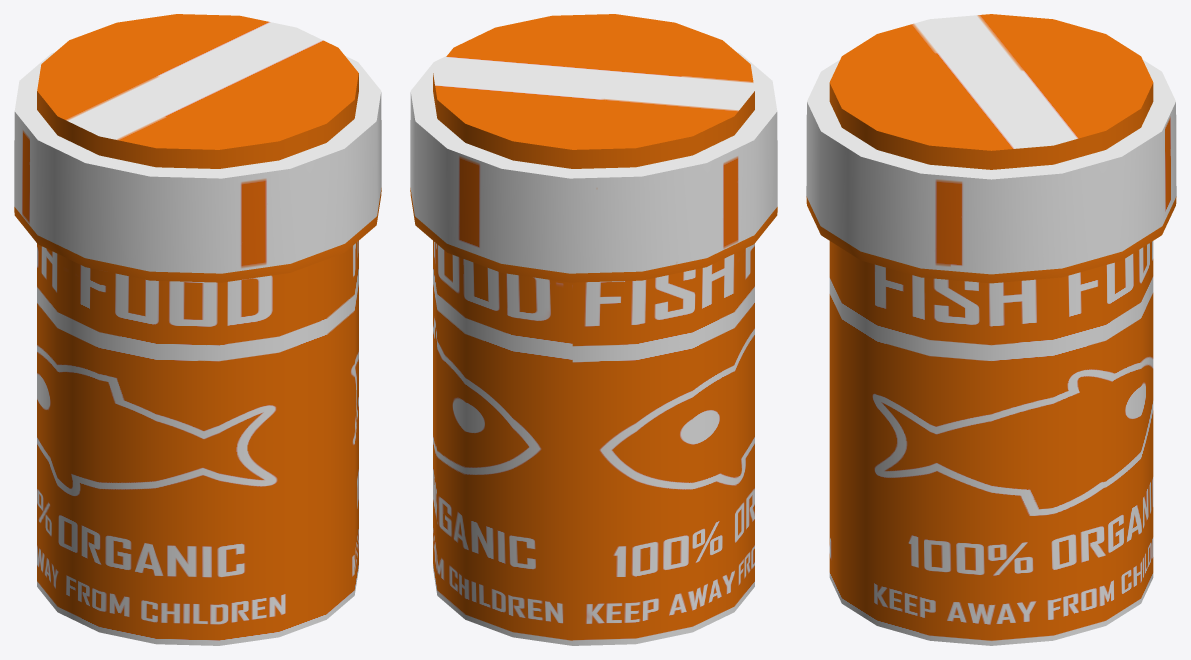
Rendered from XanderFoong_fishFoodJar.fbx.
3 views of the same model, side by side, from view 1: azimuth 30°, elevation 25°; view 2: azimuth 150°, elevation 25°; view 3: azimuth 270°, elevation 25° (orthographic).
Parts seen in each view (by area): view 1: fish_food_jar; view 2: fish_food_jar; view 3: fish_food_jar.
Part boxes in pixels (x1,y1,x2,y2): fish_food_jar: (14, 14, 381, 645); fish_food_jar: (410, 14, 777, 645); fish_food_jar: (806, 14, 1176, 645).
Size of the model in its own units: 0.0984 by 0.1453 by 0.0984.
